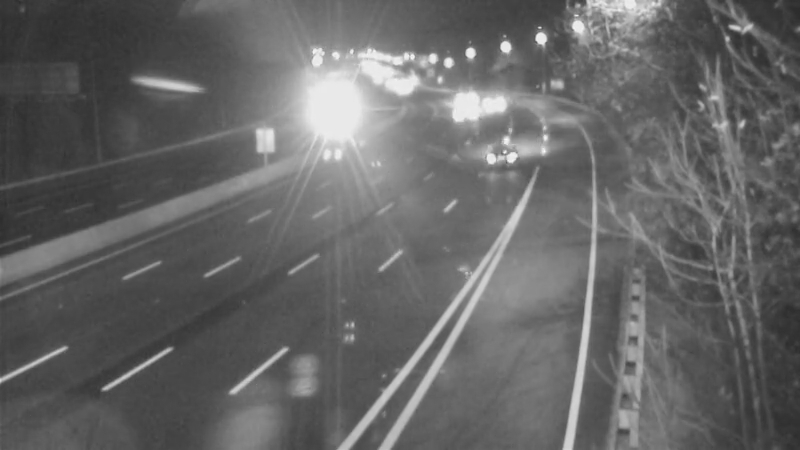vehicle: (461, 112, 541, 192), (434, 71, 484, 121), (466, 80, 516, 130), (439, 88, 489, 138), (300, 97, 350, 147)
